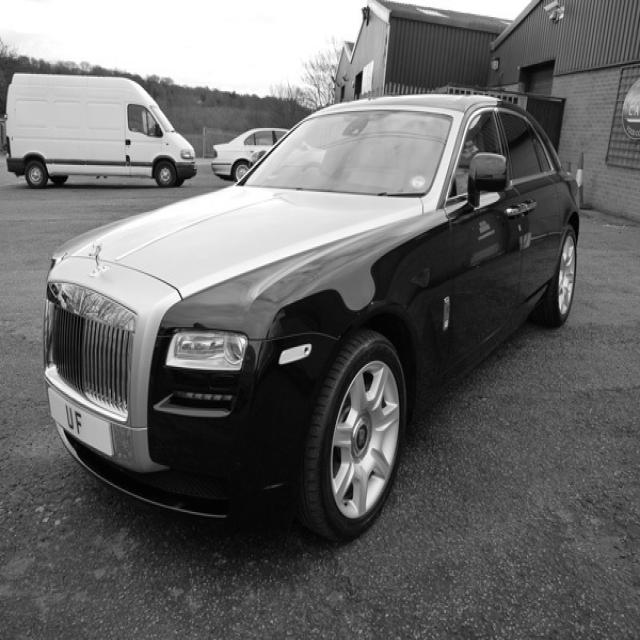car: (42, 91, 579, 542)
